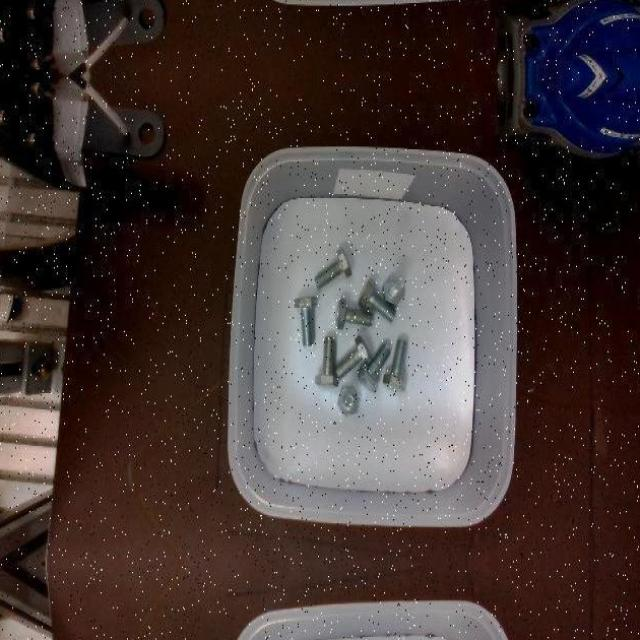screw: (358, 341, 391, 393), (335, 336, 373, 378), (314, 247, 351, 290), (358, 278, 395, 320), (382, 338, 409, 391), (314, 335, 339, 386), (335, 298, 373, 328), (294, 296, 317, 344), (336, 385, 361, 415), (382, 276, 405, 306)
